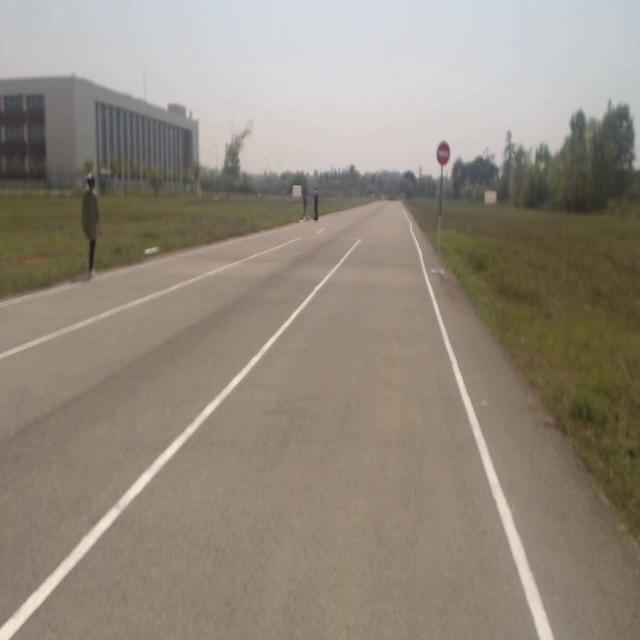girisyok: (437, 142, 450, 166)
